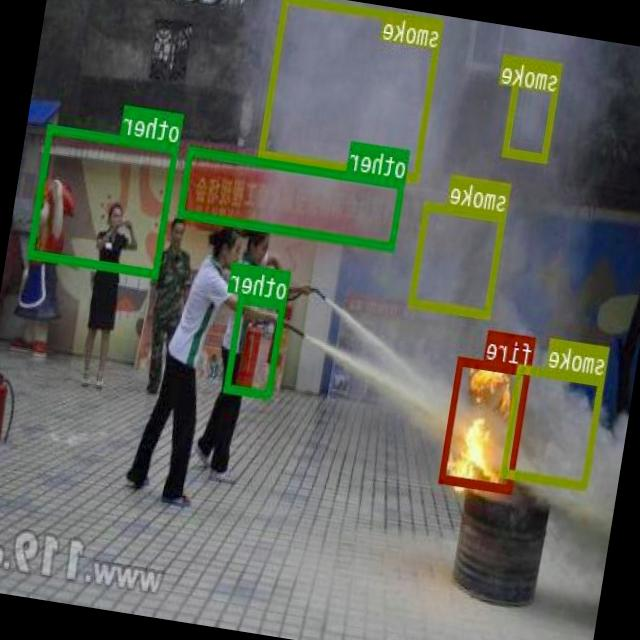fire: (440, 356, 532, 494)
smoke: (260, 0, 445, 183), (502, 364, 606, 488), (410, 201, 508, 318), (504, 56, 564, 161)
